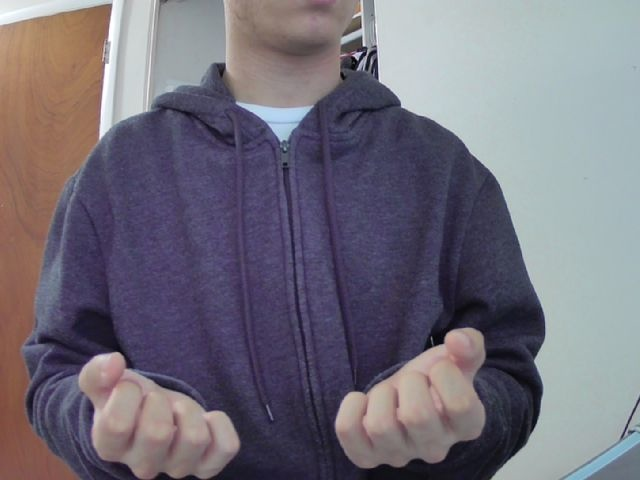want: (68, 327, 494, 480)
